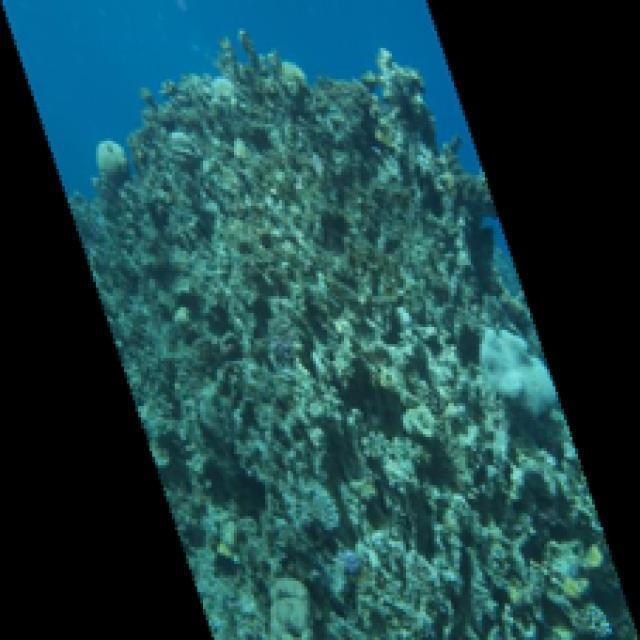Dead Coral: (51, 63, 487, 366), (181, 315, 579, 640), (256, 483, 440, 640), (405, 283, 561, 468), (369, 38, 499, 252), (429, 500, 619, 640), (249, 294, 384, 480), (140, 35, 337, 139)
